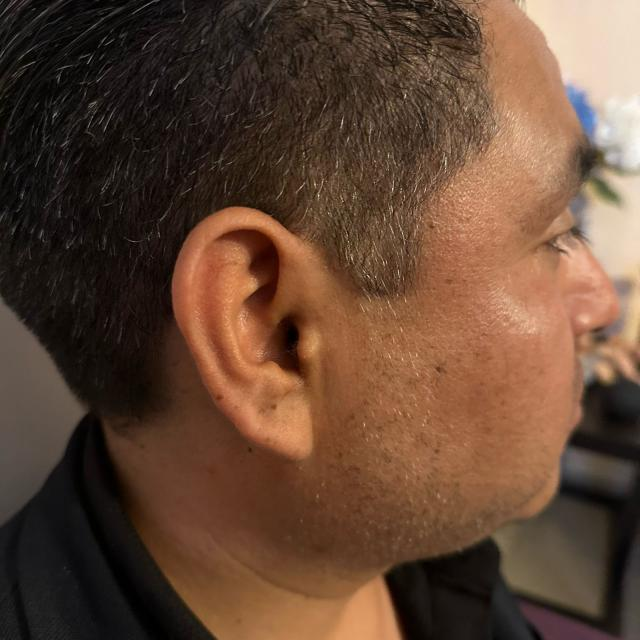ear: (172, 208, 329, 459)
